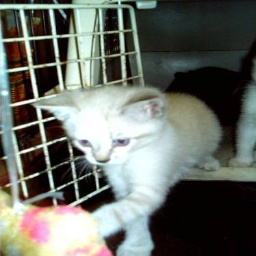cat: (27, 75, 224, 252)
